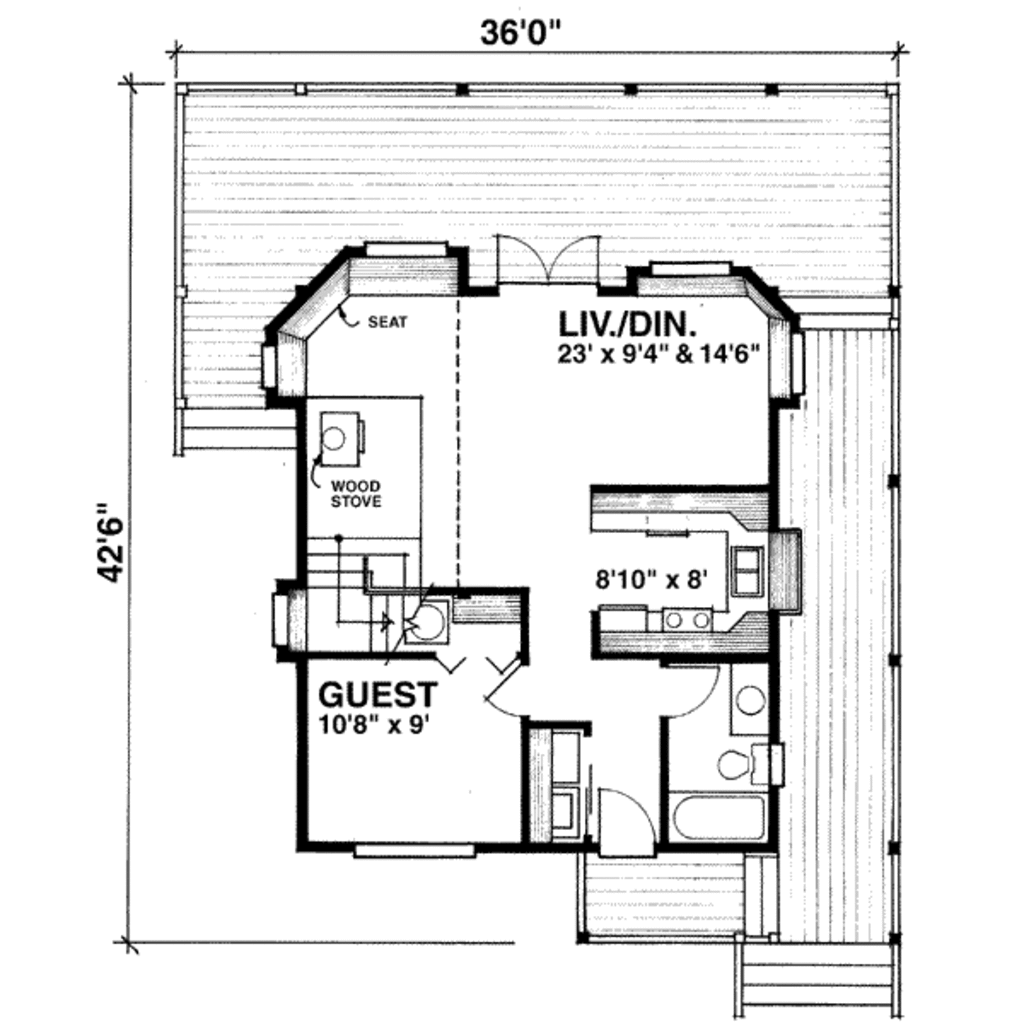door: (494, 224, 598, 285), (655, 658, 720, 727), (600, 789, 658, 864), (484, 663, 544, 724)
large_sink: (709, 738, 791, 785)
small_sink: (725, 671, 769, 735)
stairs: (305, 535, 414, 657)
tub: (667, 788, 775, 846)
twin_sink: (728, 539, 763, 599)
window: (364, 241, 455, 263), (352, 846, 480, 860), (650, 261, 733, 278)
